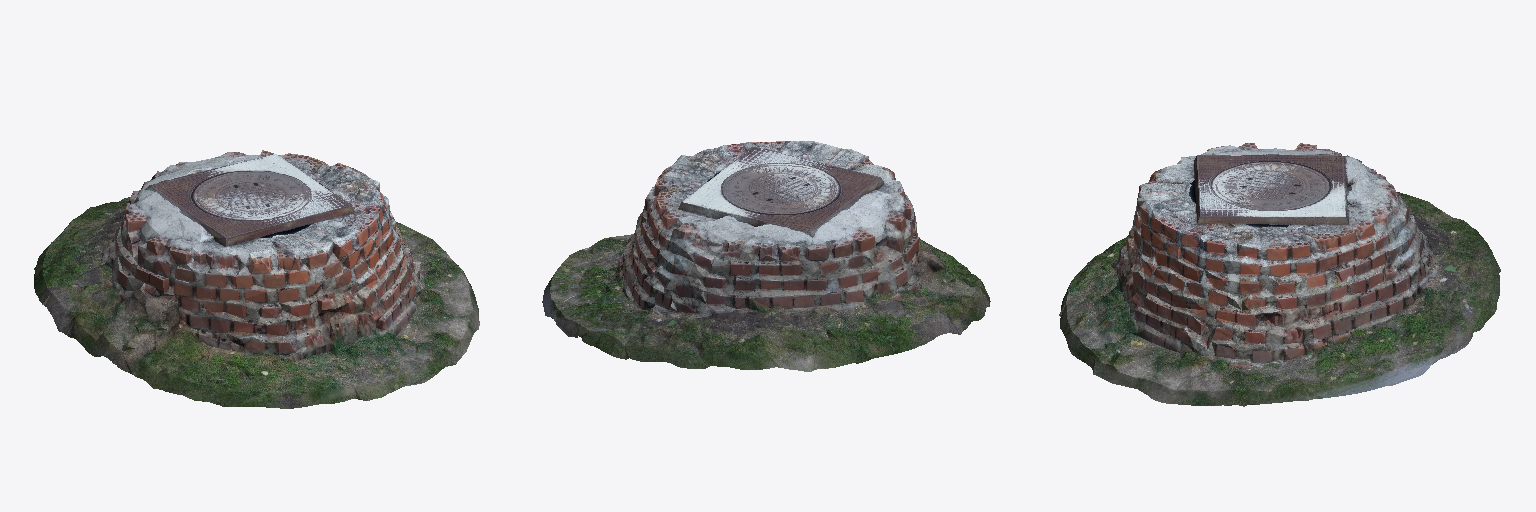
3 renders of one model, left to right at view 1: azimuth 30°, elevation 25°; view 2: azimuth 150°, elevation 25°; view 3: azimuth 270°, elevation 25°, orthographic.
Visible parts, largest first — view 1: sewer_bricks.001; view 2: sewer_bricks.001; view 3: sewer_bricks.001.
Boxes of the visible parts, box(x1,y1,x2,y2) form: sewer_bricks.001: box(34, 150, 479, 408); sewer_bricks.001: box(542, 141, 990, 371); sewer_bricks.001: box(1059, 143, 1500, 406).
Size of the model in its own units: 2.74 by 0.8949 by 2.69.
Materials: 1 (1 with a texture image).